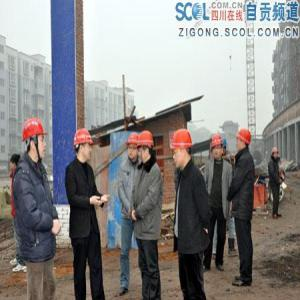red: (23, 117, 48, 163), (171, 128, 194, 170), (73, 128, 94, 164), (137, 132, 154, 164), (236, 128, 253, 155), (127, 133, 139, 162), (211, 136, 224, 161), (272, 148, 280, 161)
